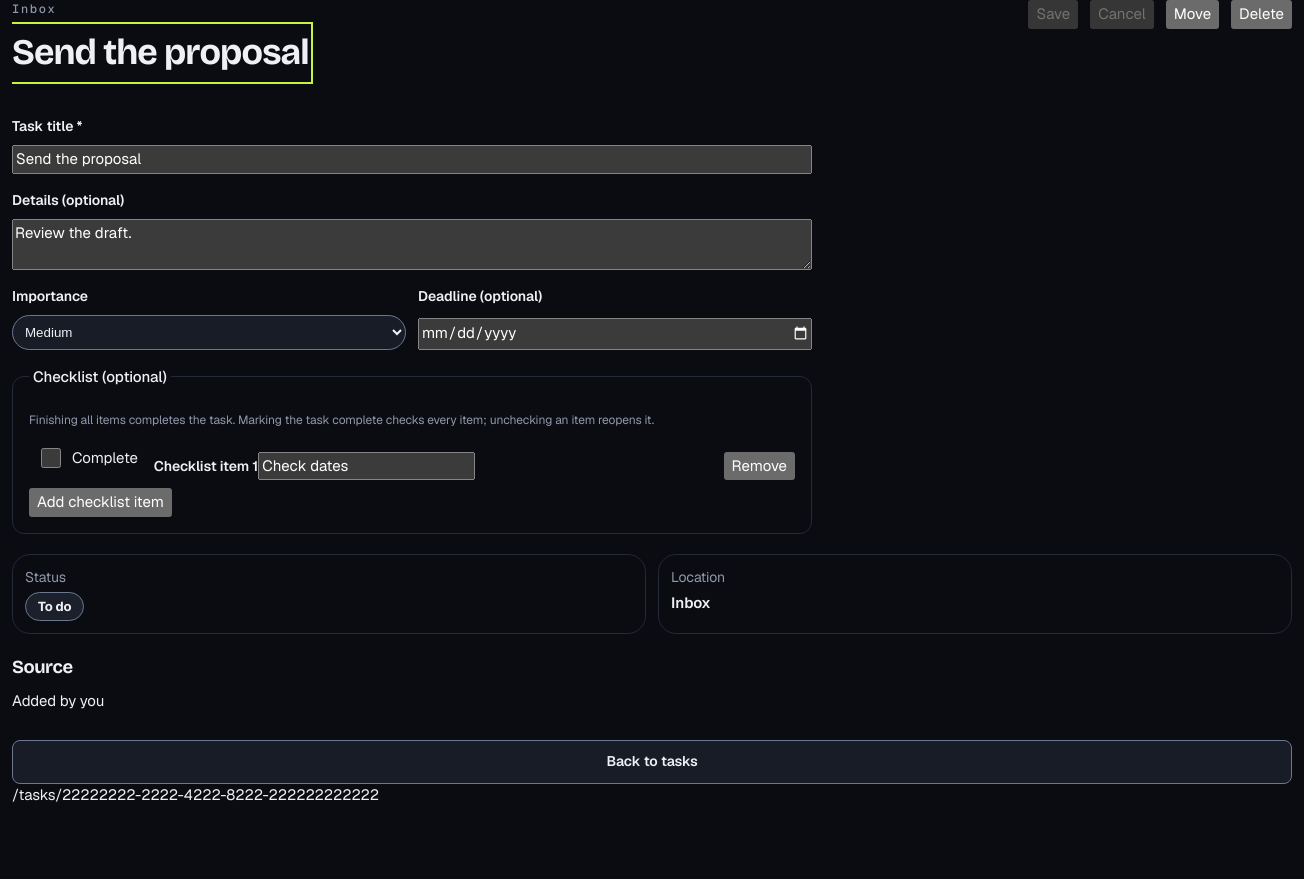
Scenario: TaskDetailPage › keeps the user edit and rebases untouched fields after a stale-version conflict
The width and height of the screenshot is (1304, 879).
Expected: the heading "Send the proposal" is shown, [12,26,309,80]
Clear the field labelled "Task title *" at (412, 159), box [12,145,812,174]
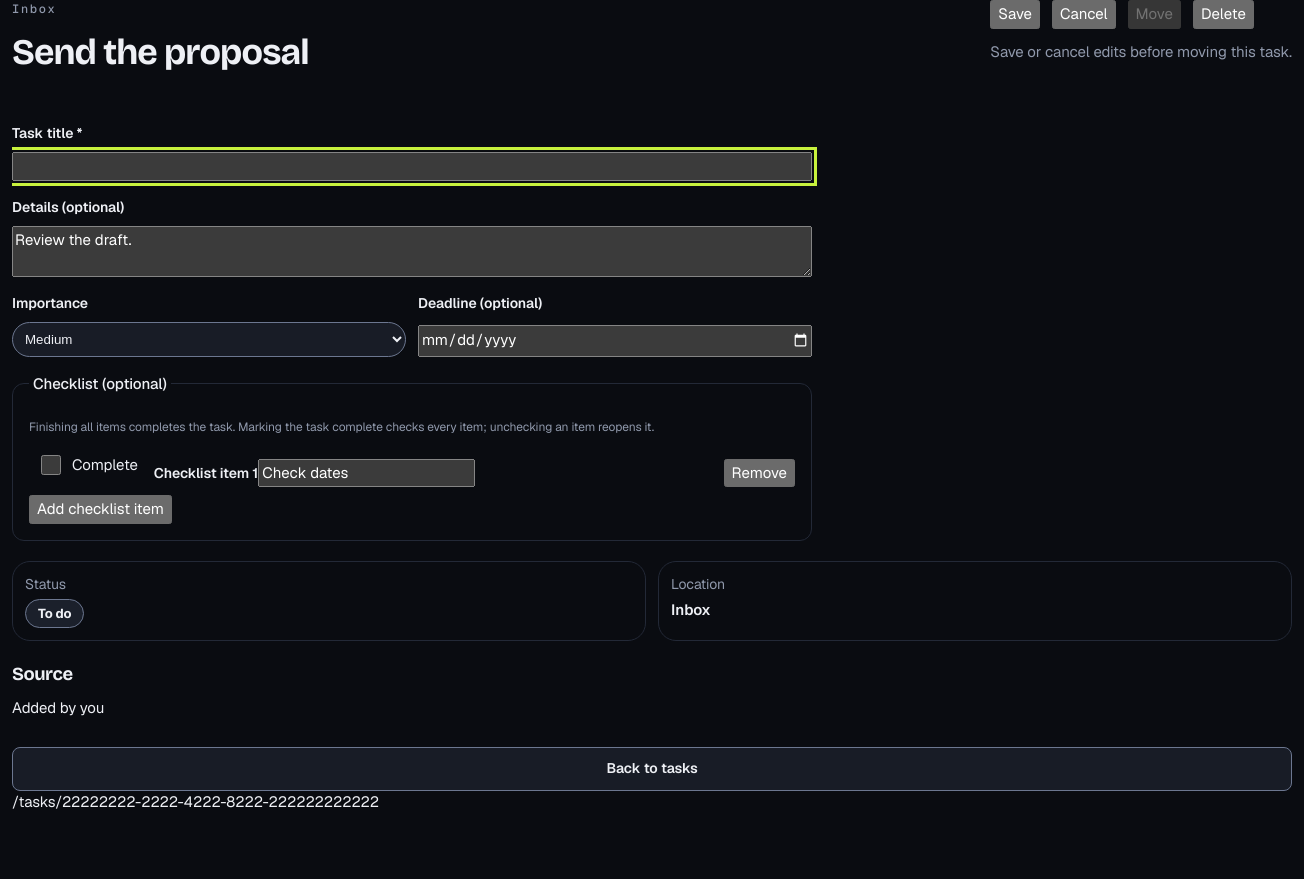
Type "My title" into the field labelled "Task title *" at (412, 166), box [12,152,812,180]
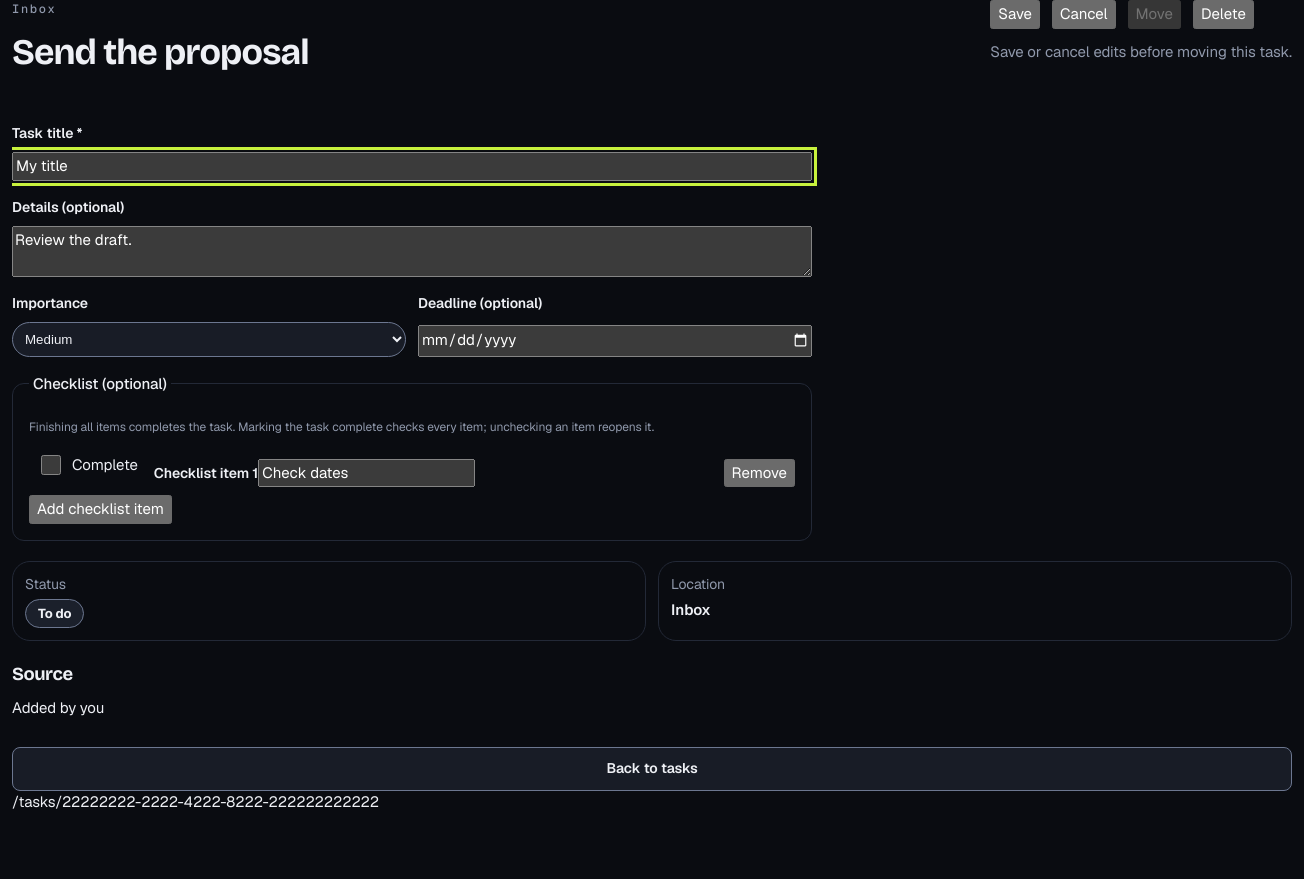
Click the button with test id "task-detail-save" at (1015, 14), box [990,0,1040,28]
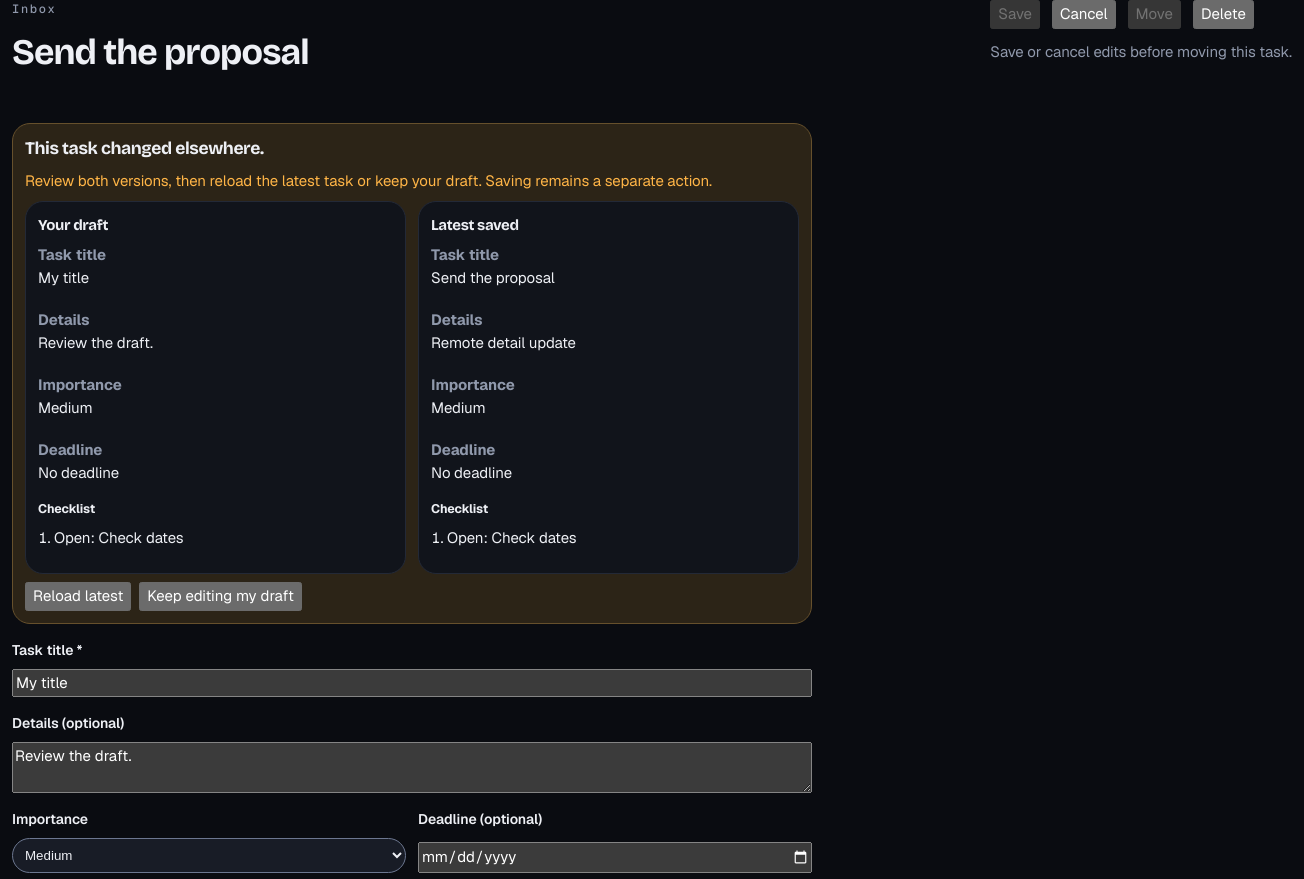
Result: the message with test id "project-task-version-conflict" is shown at [12,123,812,624]
Result: the element "Your draft" shows "My title" at [38,268,89,287]
Result: the element "Latest saved" shows "Remote detail update" at [431,333,576,352]
Click the button with test id "project-task-conflict-keep-editing" at (221, 597), box [139,582,302,611]
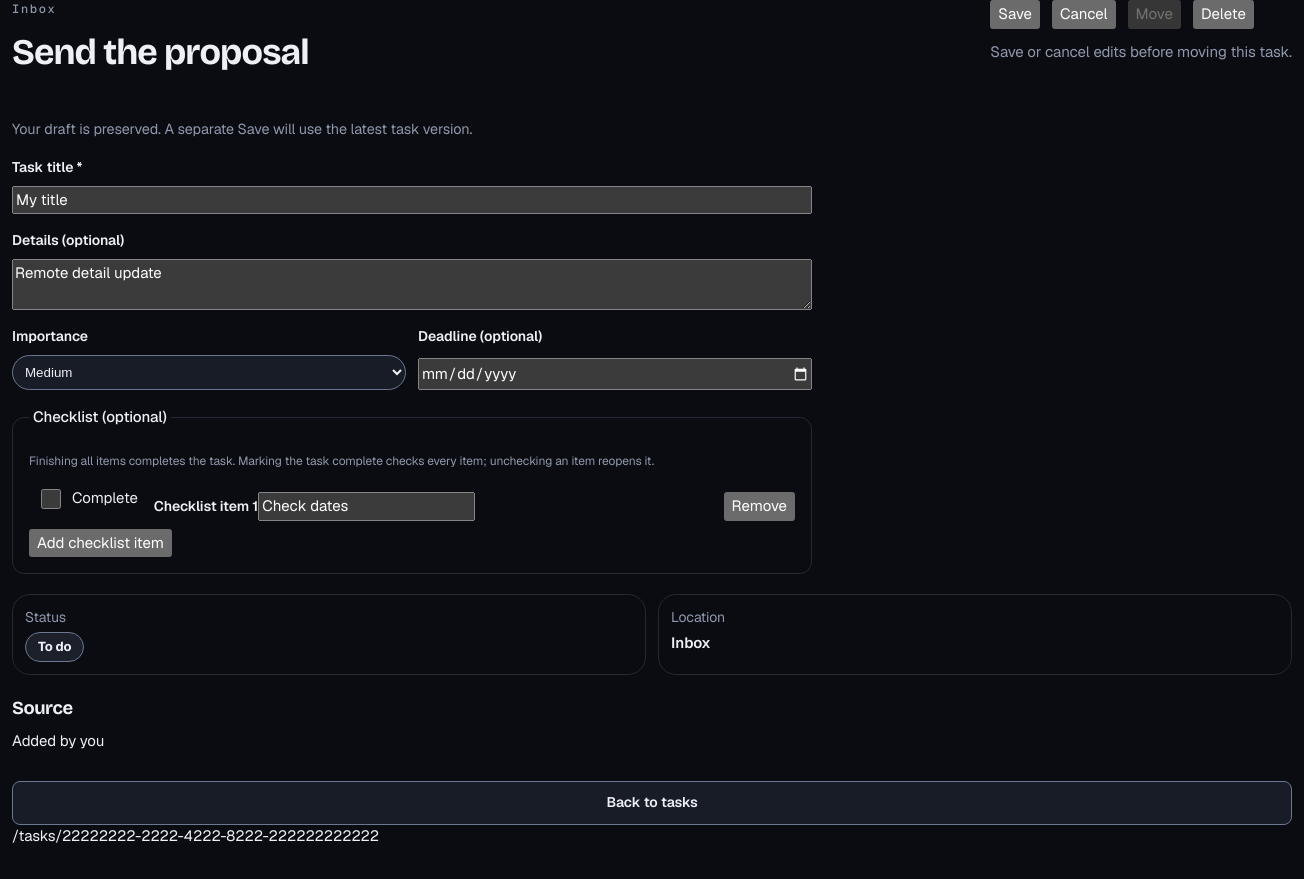
Result: the text box labelled "Details (optional)" holds "Remote detail update" at [12,259,812,310]
Click the button with test id "task-detail-save" at (1015, 14), box [990,0,1040,28]
(page scrolled)
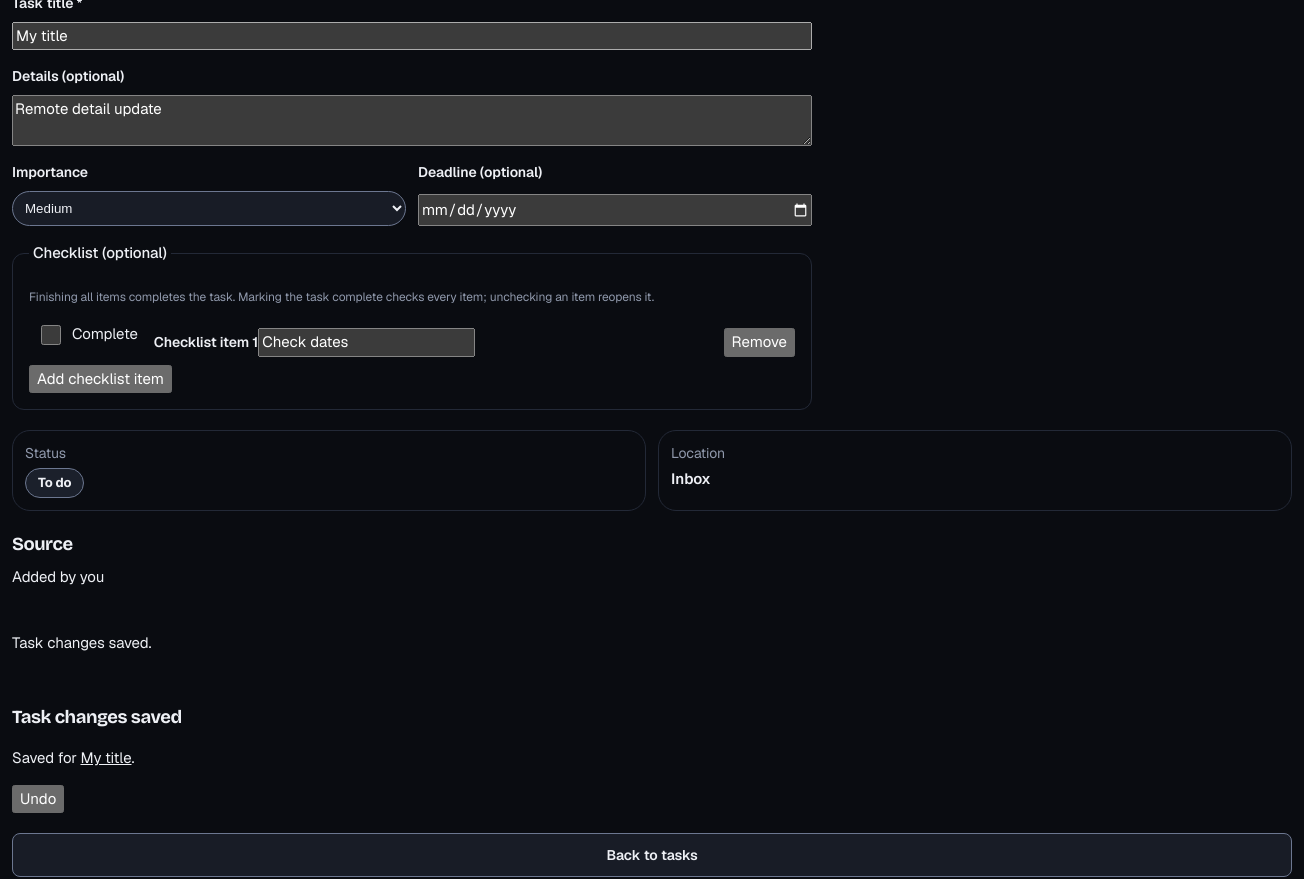
Result: the element with test id "task-action-receipt" is shown at [12,706,182,813]
